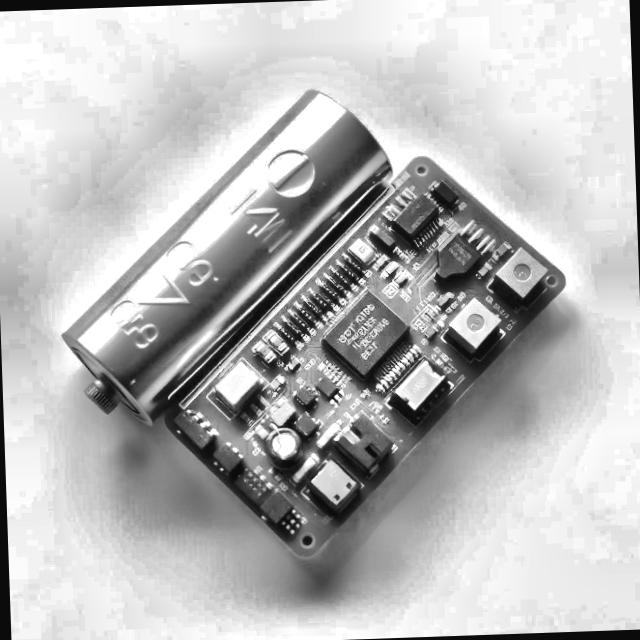Battery: (60, 90, 390, 418)
PCB: (160, 151, 567, 559)
